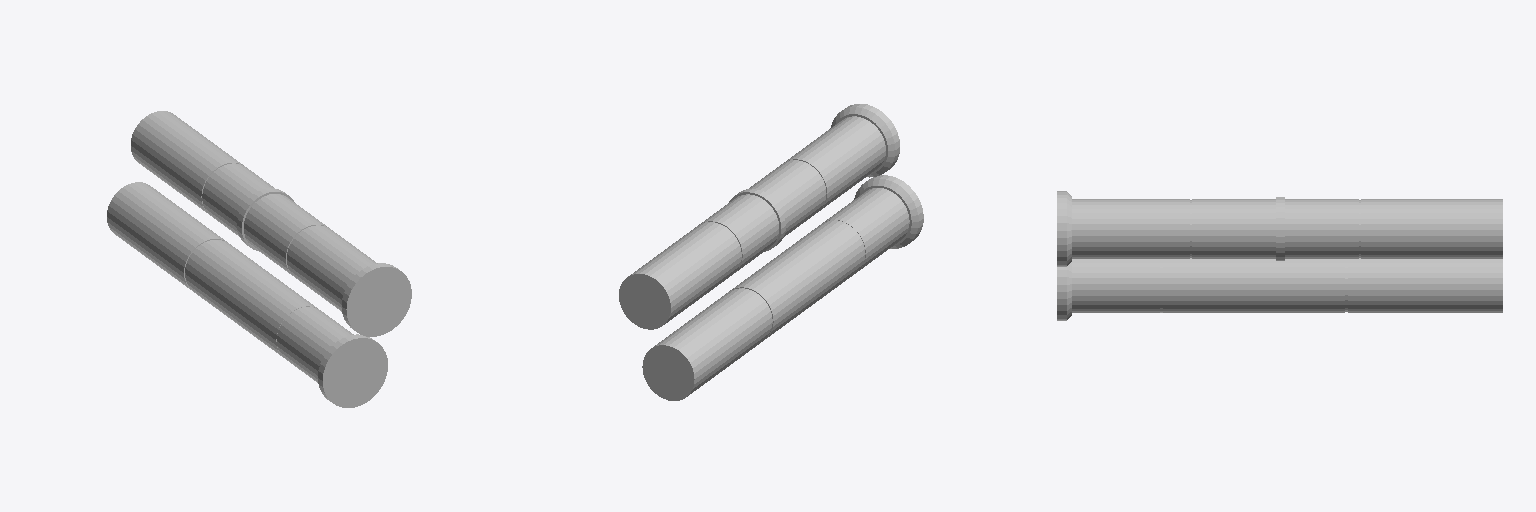
Rendered from pipes.obj.
3 views of the same model, side by side, from view 1: azimuth 30°, elevation 25°; view 2: azimuth 150°, elevation 25°; view 3: azimuth 270°, elevation 25° (orthographic).
Visible parts, largest first — view 1: Cylinder, Cylinder.001; view 2: Cylinder, Cylinder.001; view 3: Cylinder, Cylinder.001.
Boxes of the visible parts, box(x1,y1,x2,y2) form: Cylinder: box(131, 111, 411, 336); Cylinder.001: box(107, 182, 387, 407); Cylinder: box(619, 104, 899, 329); Cylinder.001: box(642, 175, 923, 400); Cylinder: box(1057, 191, 1502, 266); Cylinder.001: box(1057, 258, 1502, 320).
Bounding box in the file's own units: 6.86 × 9.85 × 29.66.